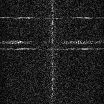wifi: (1, 40, 104, 44), (1, 16, 104, 18), (1, 48, 104, 50)
